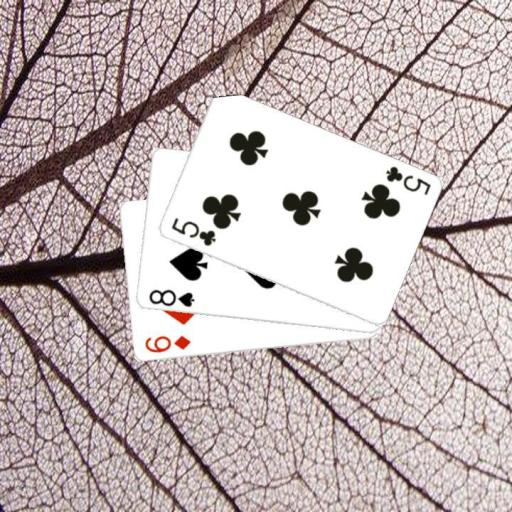5C: (382, 163, 432, 197), (167, 215, 217, 248)
6D: (141, 333, 192, 355)
8S: (145, 287, 196, 310)
